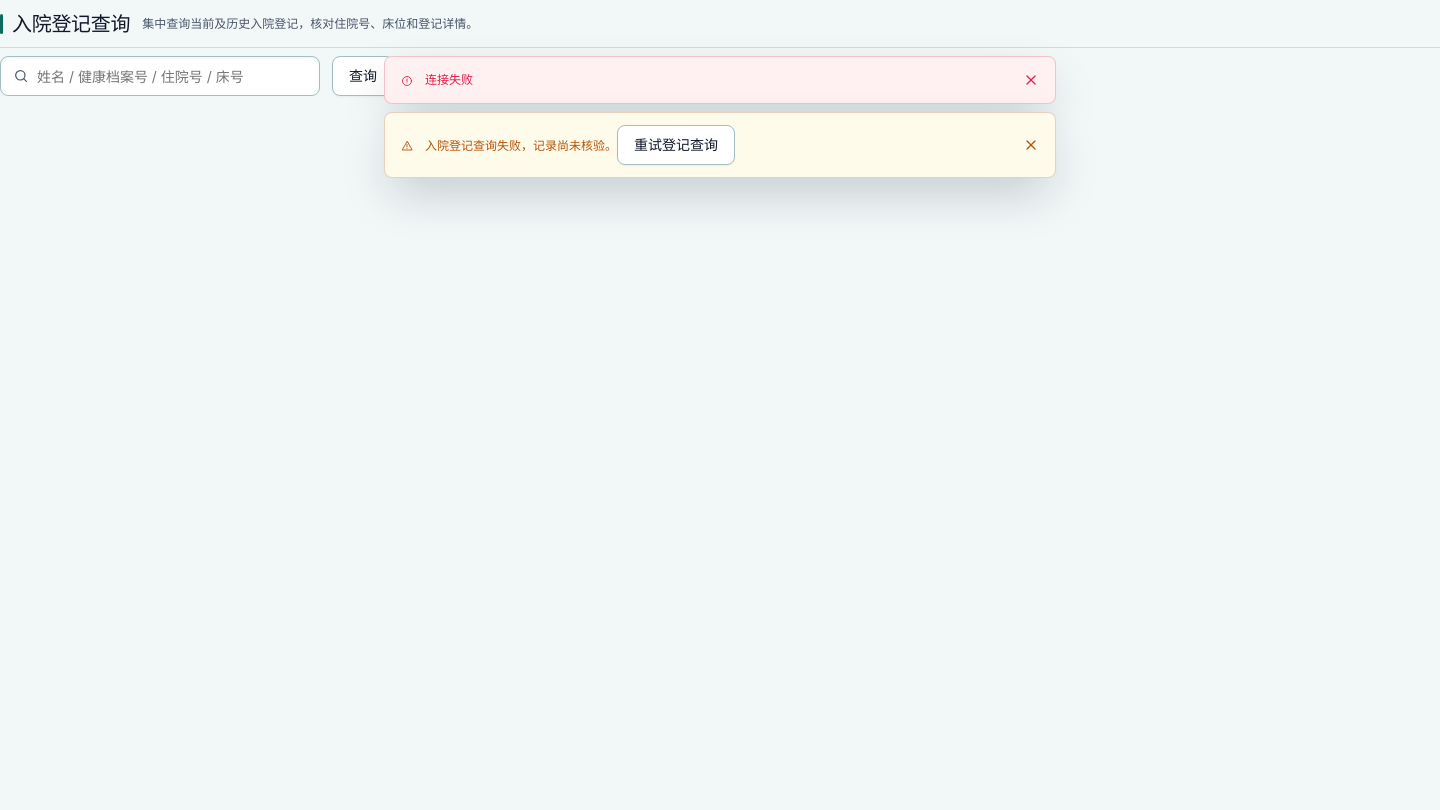
it: Inpatient registration facts › only shows an empty registration result after a successful query
Check: the text "没有匹配的登记记录" is not shown
Click the button "重试登记查询".
click(676, 145)  # box [617,125,735,165]
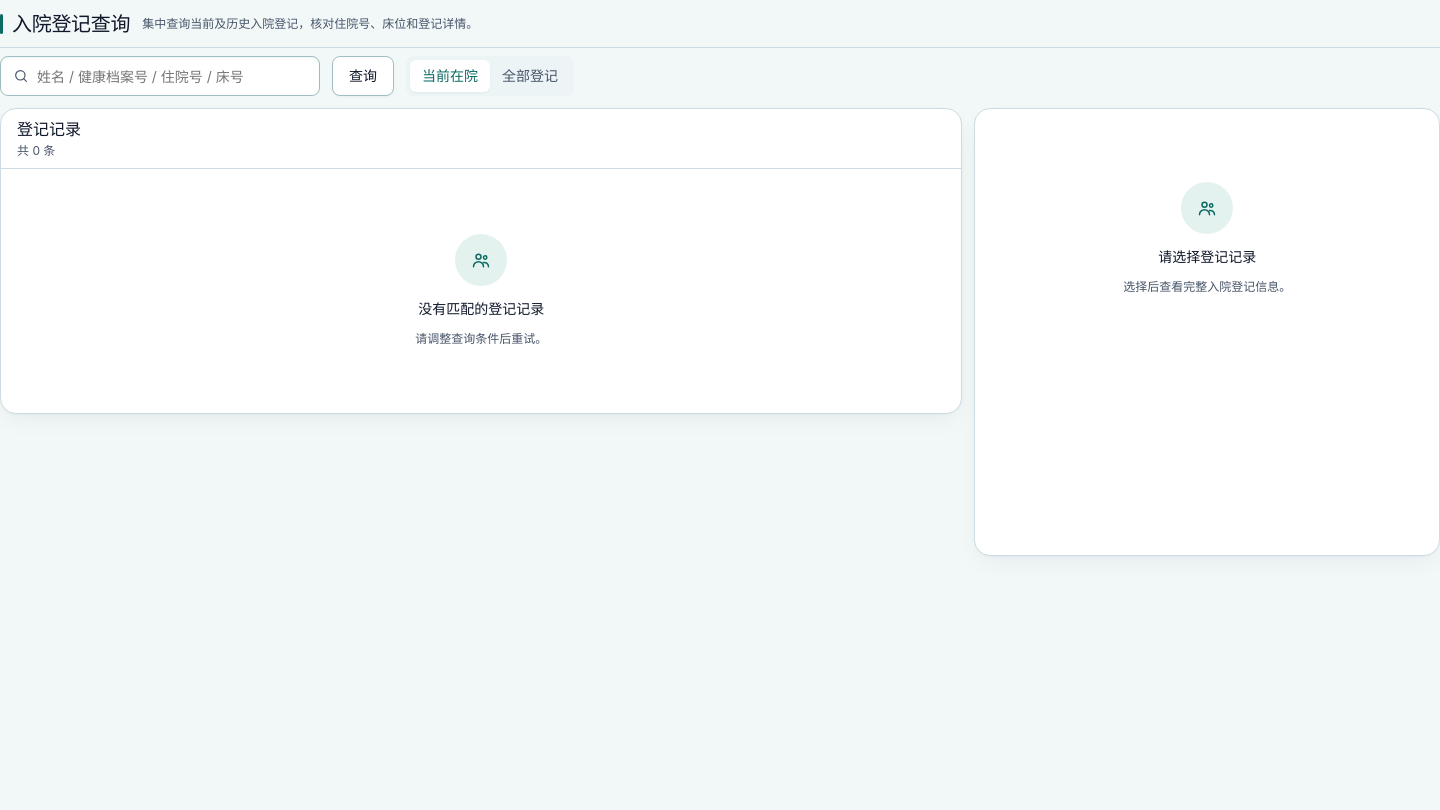
Check: the text "没有匹配的登记记录" is shown, box [418,298,544,321]
